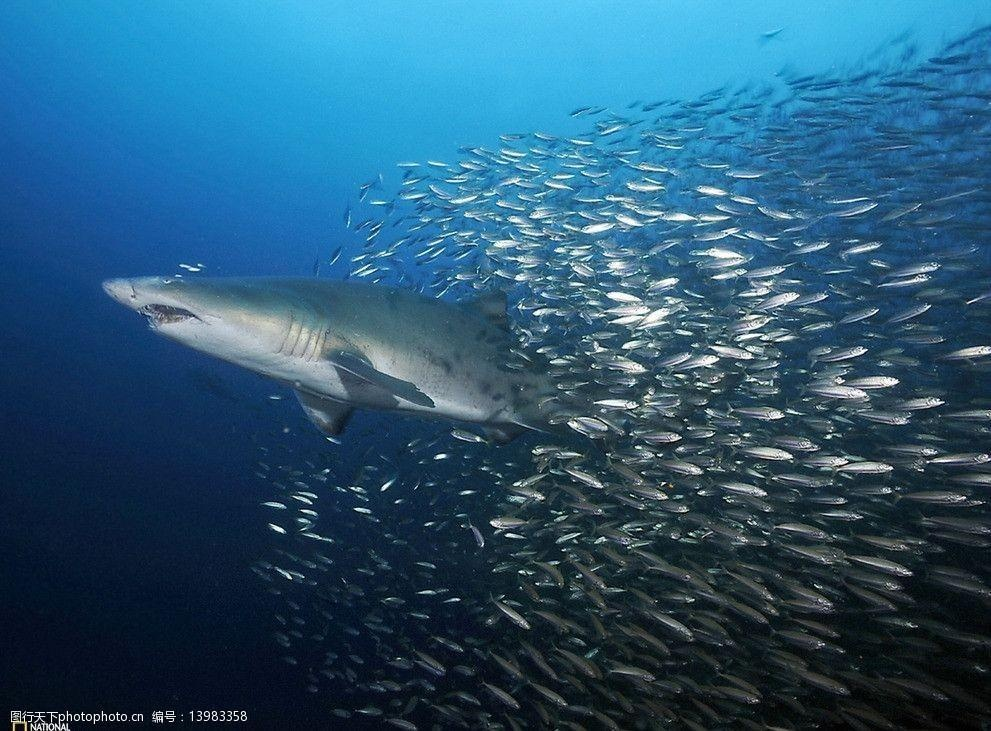fish: (106, 251, 567, 443)
